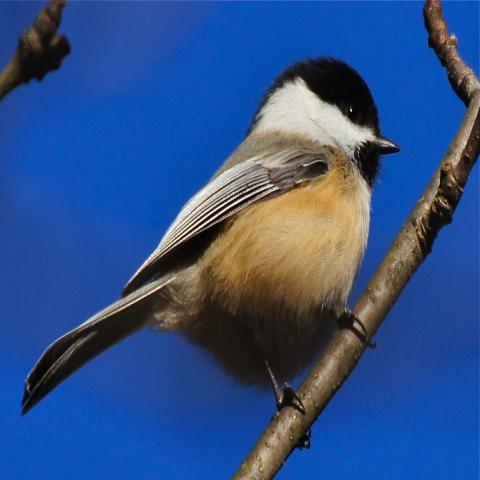bird: (20, 52, 402, 430)
